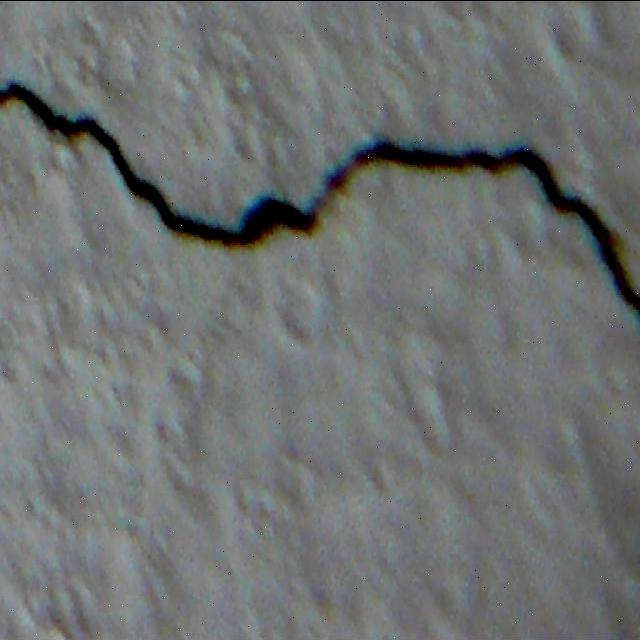crack: (0, 76, 639, 322)
